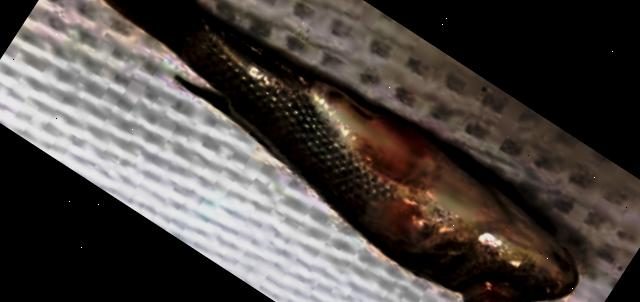Streptococcus: (106, 0, 577, 302)
